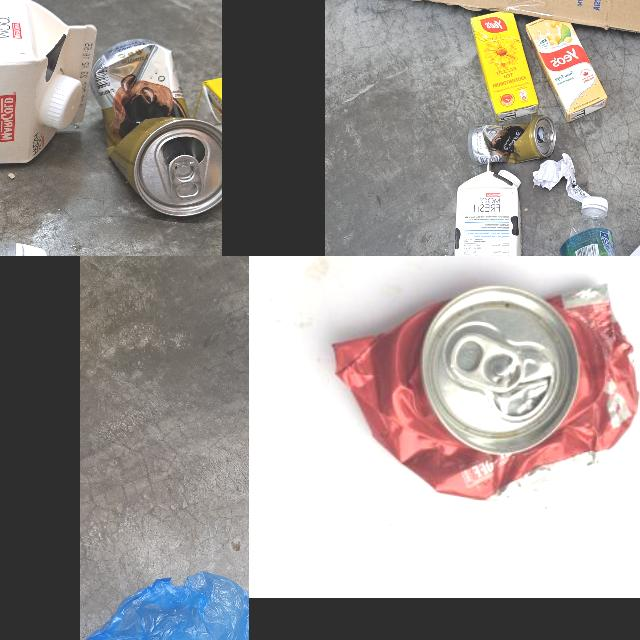aba de lata: (446, 322, 526, 400), (170, 153, 207, 203), (543, 130, 555, 142)
caixinha: (0, 0, 99, 171), (524, 16, 608, 122), (470, 12, 540, 122), (450, 159, 522, 256), (205, 71, 222, 135)
garrafa plástica: (559, 212, 640, 256)
lata: (330, 274, 640, 504), (96, 35, 222, 215), (468, 114, 556, 164)
papel: (533, 154, 591, 202)
sacola plástica: (80, 568, 249, 640)
tampa plástica: (0, 239, 46, 256), (499, 170, 521, 188), (582, 197, 608, 211)
